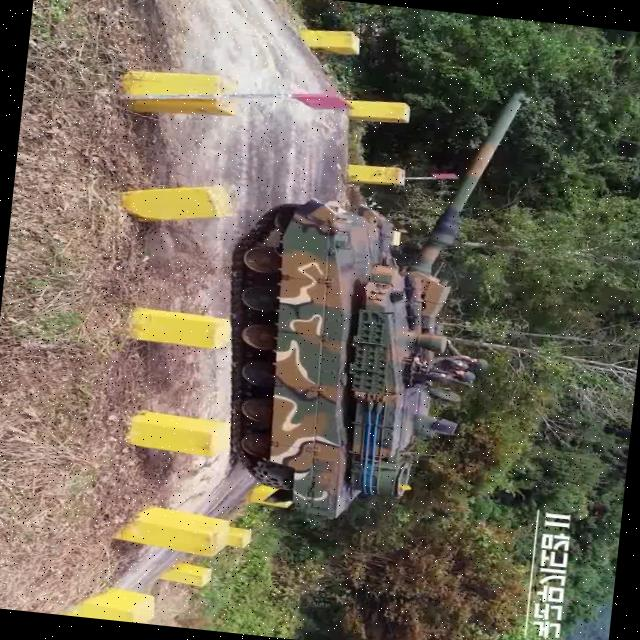korea tank: (207, 61, 530, 537)
